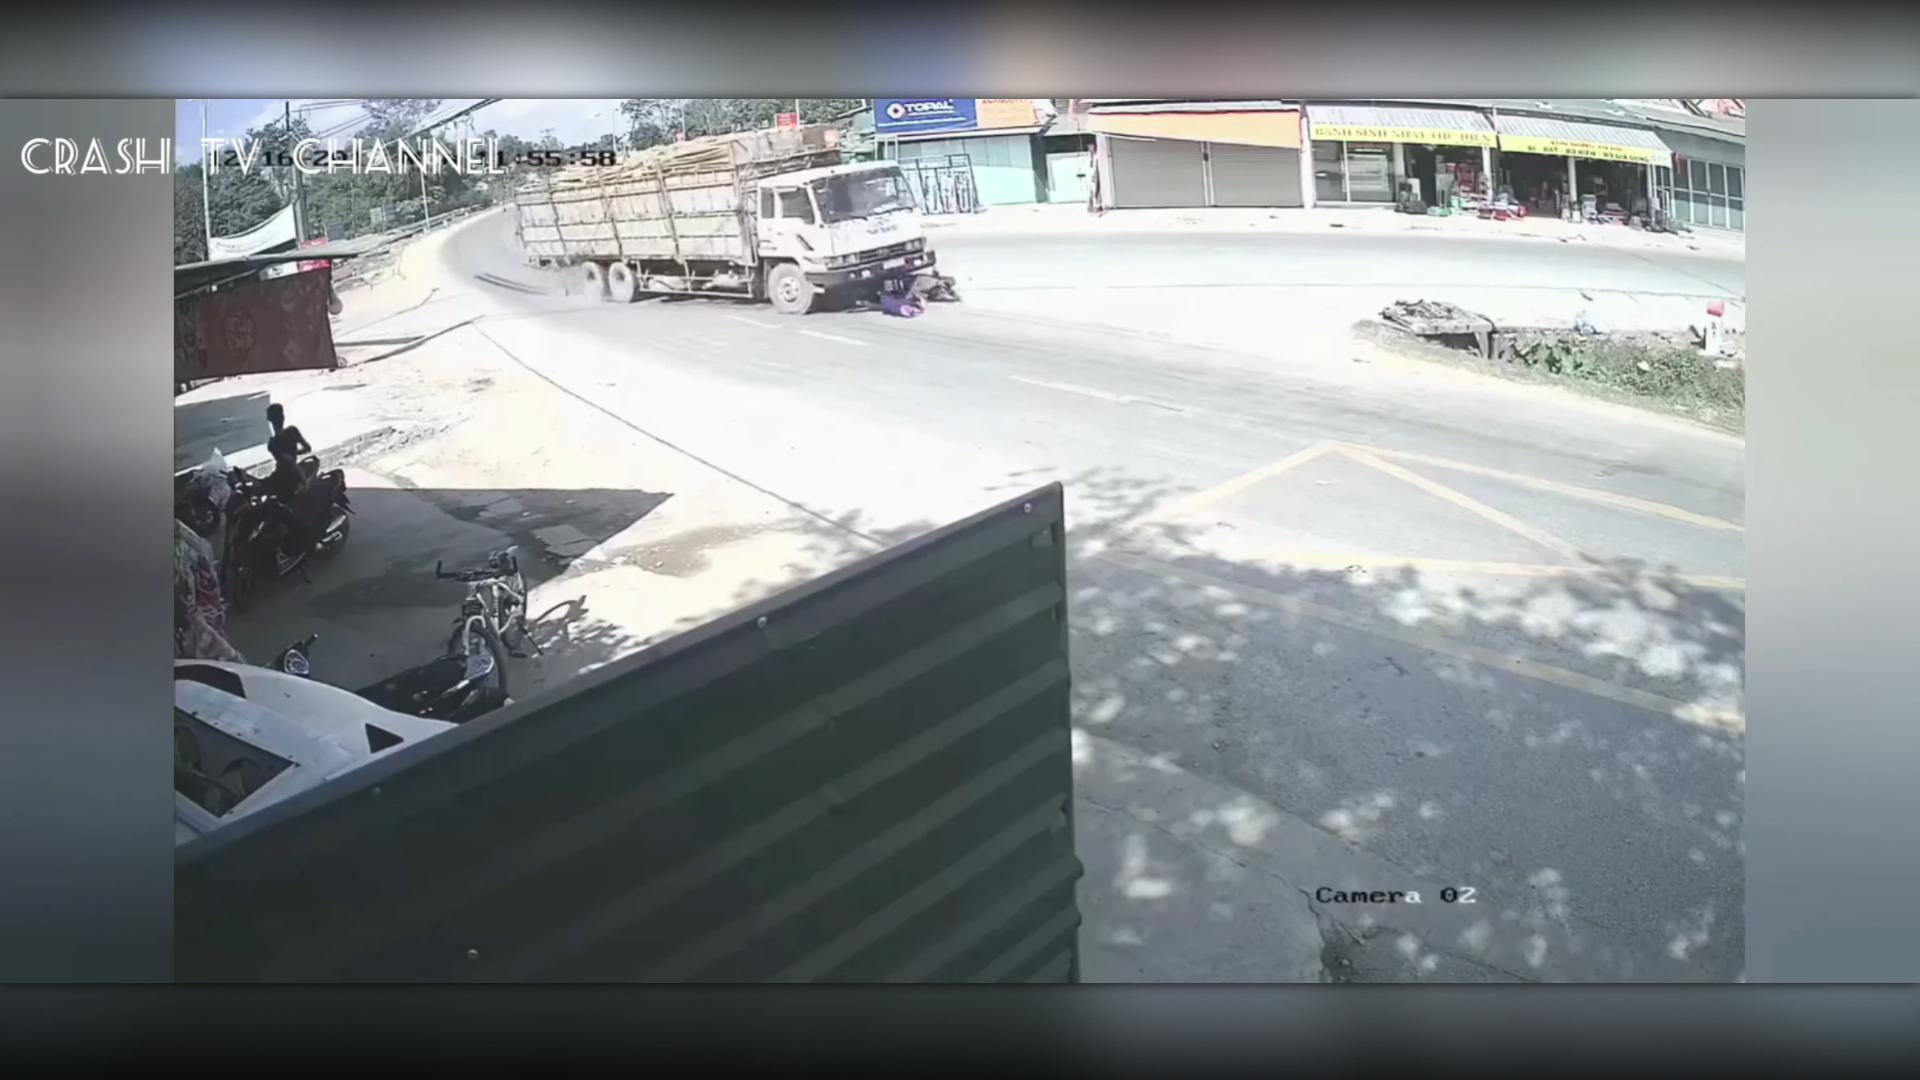accident: (840, 229, 963, 323)
truck: (510, 129, 953, 332)
